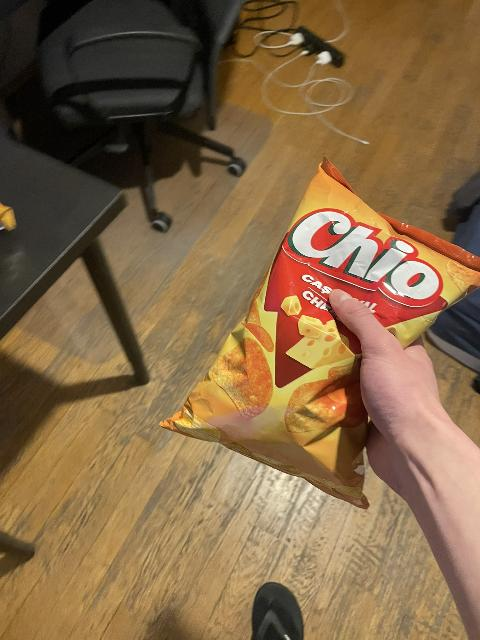Chio Cascaval 125g: (162, 158, 478, 512)
